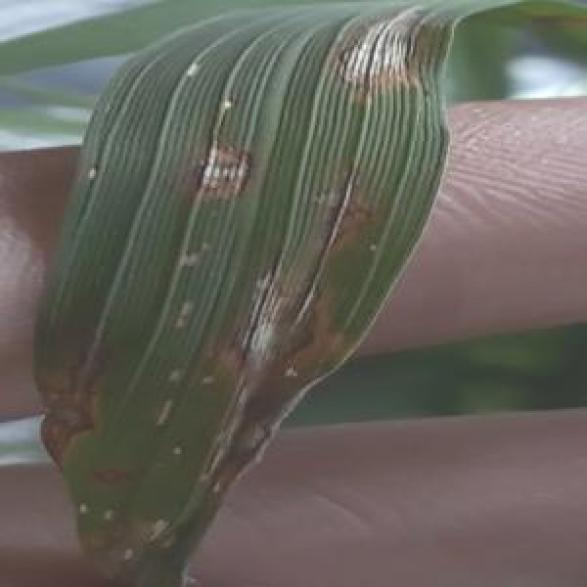Leaf_smut: (200, 248, 354, 374), (334, 0, 448, 119), (2, 344, 98, 456), (180, 126, 268, 210), (84, 448, 147, 493)
